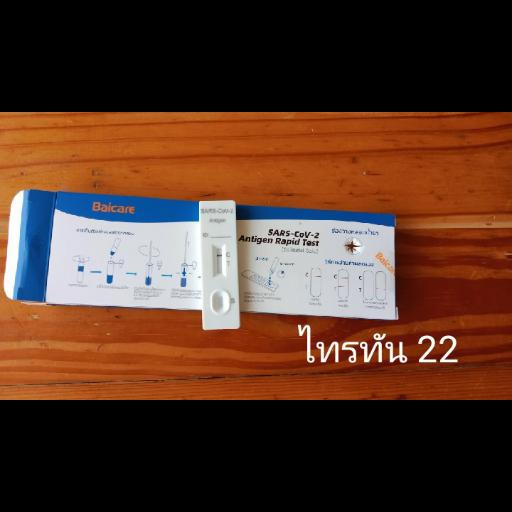Neg: (198, 201, 240, 329)
